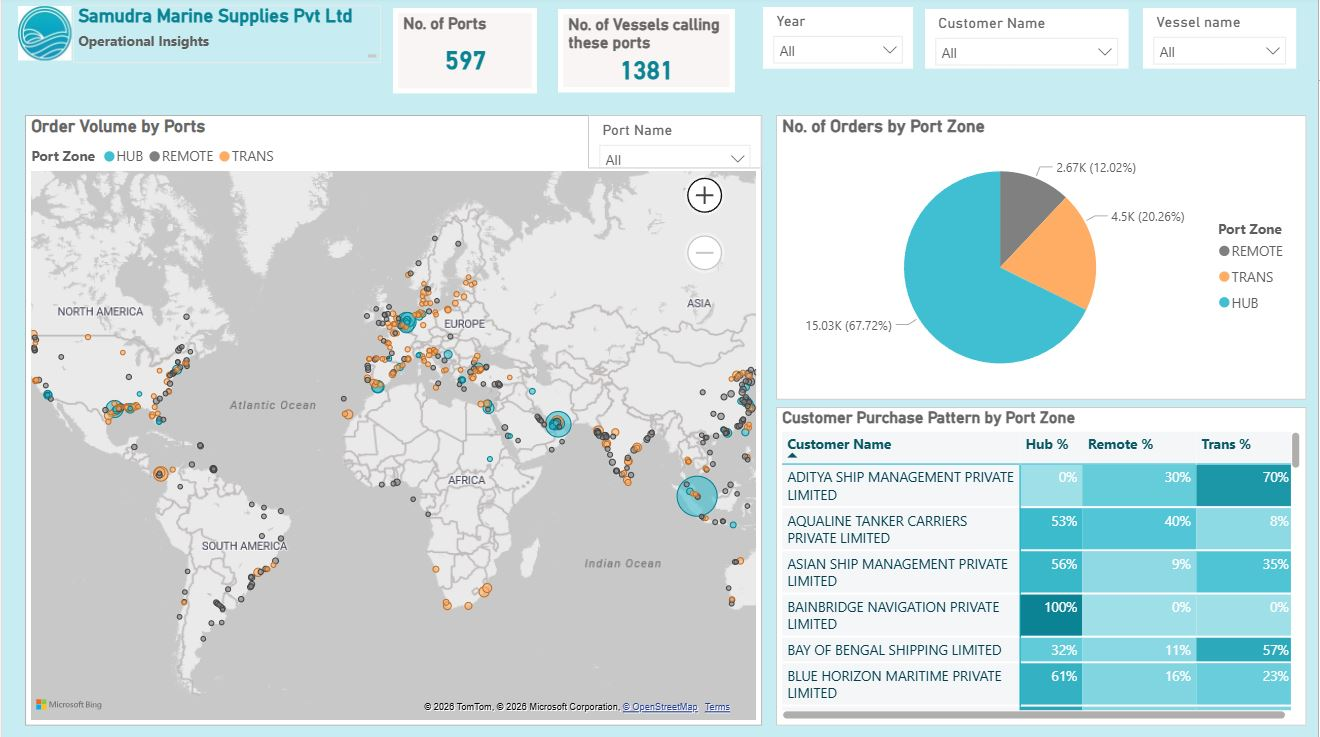

This screenshot's page, from the dashboard's own definition file:
{"tool":"powerbi","page":{"name":"Operational Insights","canvas":[1280,720],"ordinal":6},"visuals":[{"type":"pivotTable","title":"Customer Purchase Pattern by Port Zone","fields":{"Rows":["dim_customers.Customer Name"],"Values":["Sum(kpi_customer_vs_port_zone.hub_%)","Sum(kpi_customer_vs_port_zone.remote_%)","Sum(kpi_customer_vs_port_zone.trans_%)"]},"box":[752.8,398.8,515.5,310.3],"z":0},{"type":"slicer","fields":{"Values":["dim_vessels.Vessel name"]},"box":[1109.7,10.7,148.9,59.4],"z":1000},{"type":"map","title":"Order Volume by Ports","fields":{"Series":["dim_port_zone.Port Zone"],"Category":["dim_ports.Port Name"],"Size":["Count(fact _orders.Order No)"]},"box":[22.4,114.8,716.8,594.3],"z":1000,"group":"g1"},{"type":"pieChart","title":"No. of Orders by Port Zone","fields":{"Category":["dim_port_zone.Port Zone"],"Y":["Count(fact _orders.Order No)"]},"box":[752.4,114.9,515.9,277.4],"z":2000},{"type":"card","title":"No. of Ports","fields":{"Values":["Count(fact _orders.Port Code)"]},"box":[380.6,10.7,140.2,82.7],"z":3000},{"type":"card","title":"No. of Vessels calling these ports","fields":{"Values":["Count(fact _orders.Vessel Code)"]},"box":[541.2,11.7,172.3,80.8],"z":4000},{"type":"slicer","fields":{"Values":["dim_customers.Customer Name"]},"box":[897.5,11.7,197.6,58.4],"z":5000},{"type":"slicer","fields":{"Values":["dim_date.Year"]},"box":[739.8,9.7,146,60.3],"z":6000},{"type":"slicer","fields":{"Values":["dim_ports.Port Name"]},"box":[570,114.8,169.2,51.6],"z":6000,"group":"g1"},{"type":"group","id":"g1","title":"Group 1","box":[22.4,114.8,716.8,594.3],"z":7000},{"type":"textbox","title":"Samudra Marine Supplies Pvt Ltd","box":[69.1,7.8,299.6,56.4],"z":8000},{"type":"image","box":[14.6,8.8,54.5,52.5],"z":9000}]}

Visuals, with their boxes in screenshot pixels (x1, y1, x2, y2), scaled from the page's 1280x720 canvas onto the 1320x737 screenshot:
"Customer Purchase Pattern by Port Zone" pivotTable: crop(776, 408, 1308, 726)
slicer - dim_vessels.Vessel name: crop(1144, 11, 1298, 72)
"Order Volume by Ports" map: crop(23, 118, 762, 726)
"No. of Orders by Port Zone" pieChart: crop(776, 118, 1308, 402)
"No. of Ports" card: crop(392, 11, 537, 96)
"No. of Vessels calling these ports" card: crop(558, 12, 736, 95)
slicer - dim_customers.Customer Name: crop(926, 12, 1129, 72)
slicer - dim_date.Year: crop(763, 10, 913, 72)
slicer - dim_ports.Port Name: crop(588, 118, 762, 170)
"Group 1" group: crop(23, 118, 762, 726)
"Samudra Marine Supplies Pvt Ltd" textbox: crop(71, 8, 380, 66)
image: crop(15, 9, 71, 63)
